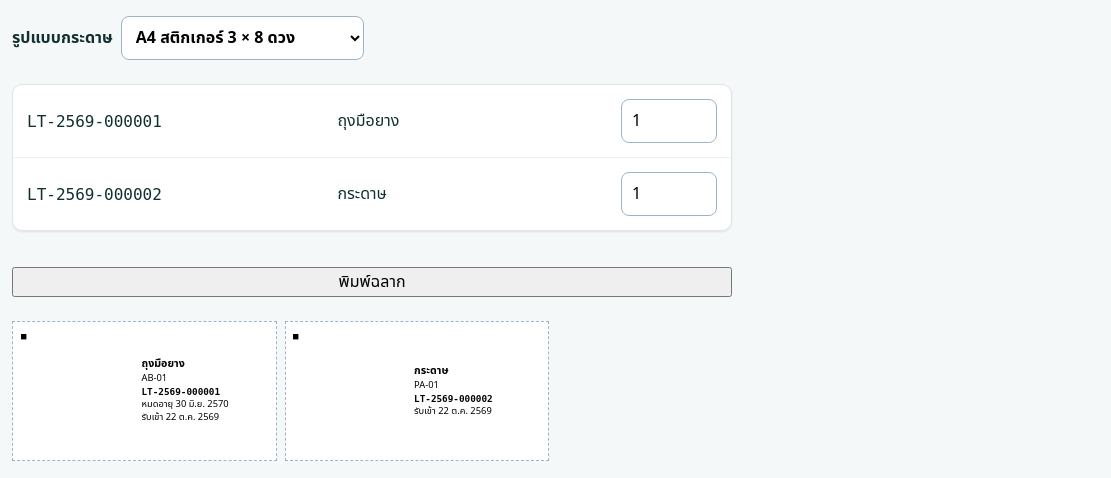
Scenario: LabelSheet › prints the chosen number of copies per lot with code, name and Thai dates
The width and height of the screenshot is (1111, 478).
Step 1. Replace the text in the number field named "จำนวนฉลาก LT-2569-000001" with "3" → (669, 121), box [621, 99, 717, 143]
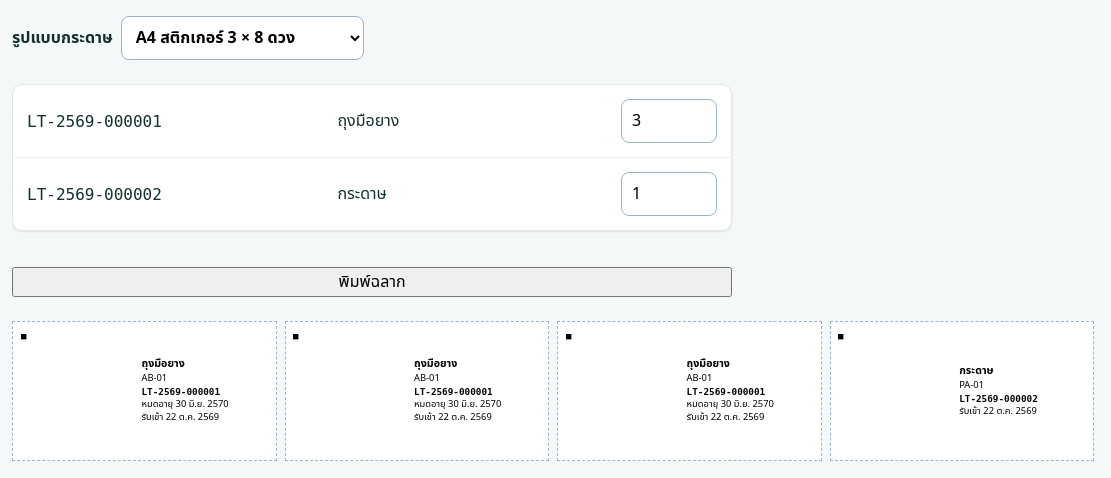
Result: the number of elements with class "inventory-label" is 4 at [12, 321, 277, 461]; [285, 321, 549, 461]; [557, 321, 822, 461]; [830, 321, 1094, 461]
Result: the text "LT-2569-000001" is shown 3 times at [142, 386, 229, 397]; [414, 386, 501, 397]; [687, 386, 774, 397]
Result: the text "ถุงมือยาง" is shown 3 times at [142, 356, 185, 372]; [414, 356, 457, 372]; [687, 356, 730, 372]
